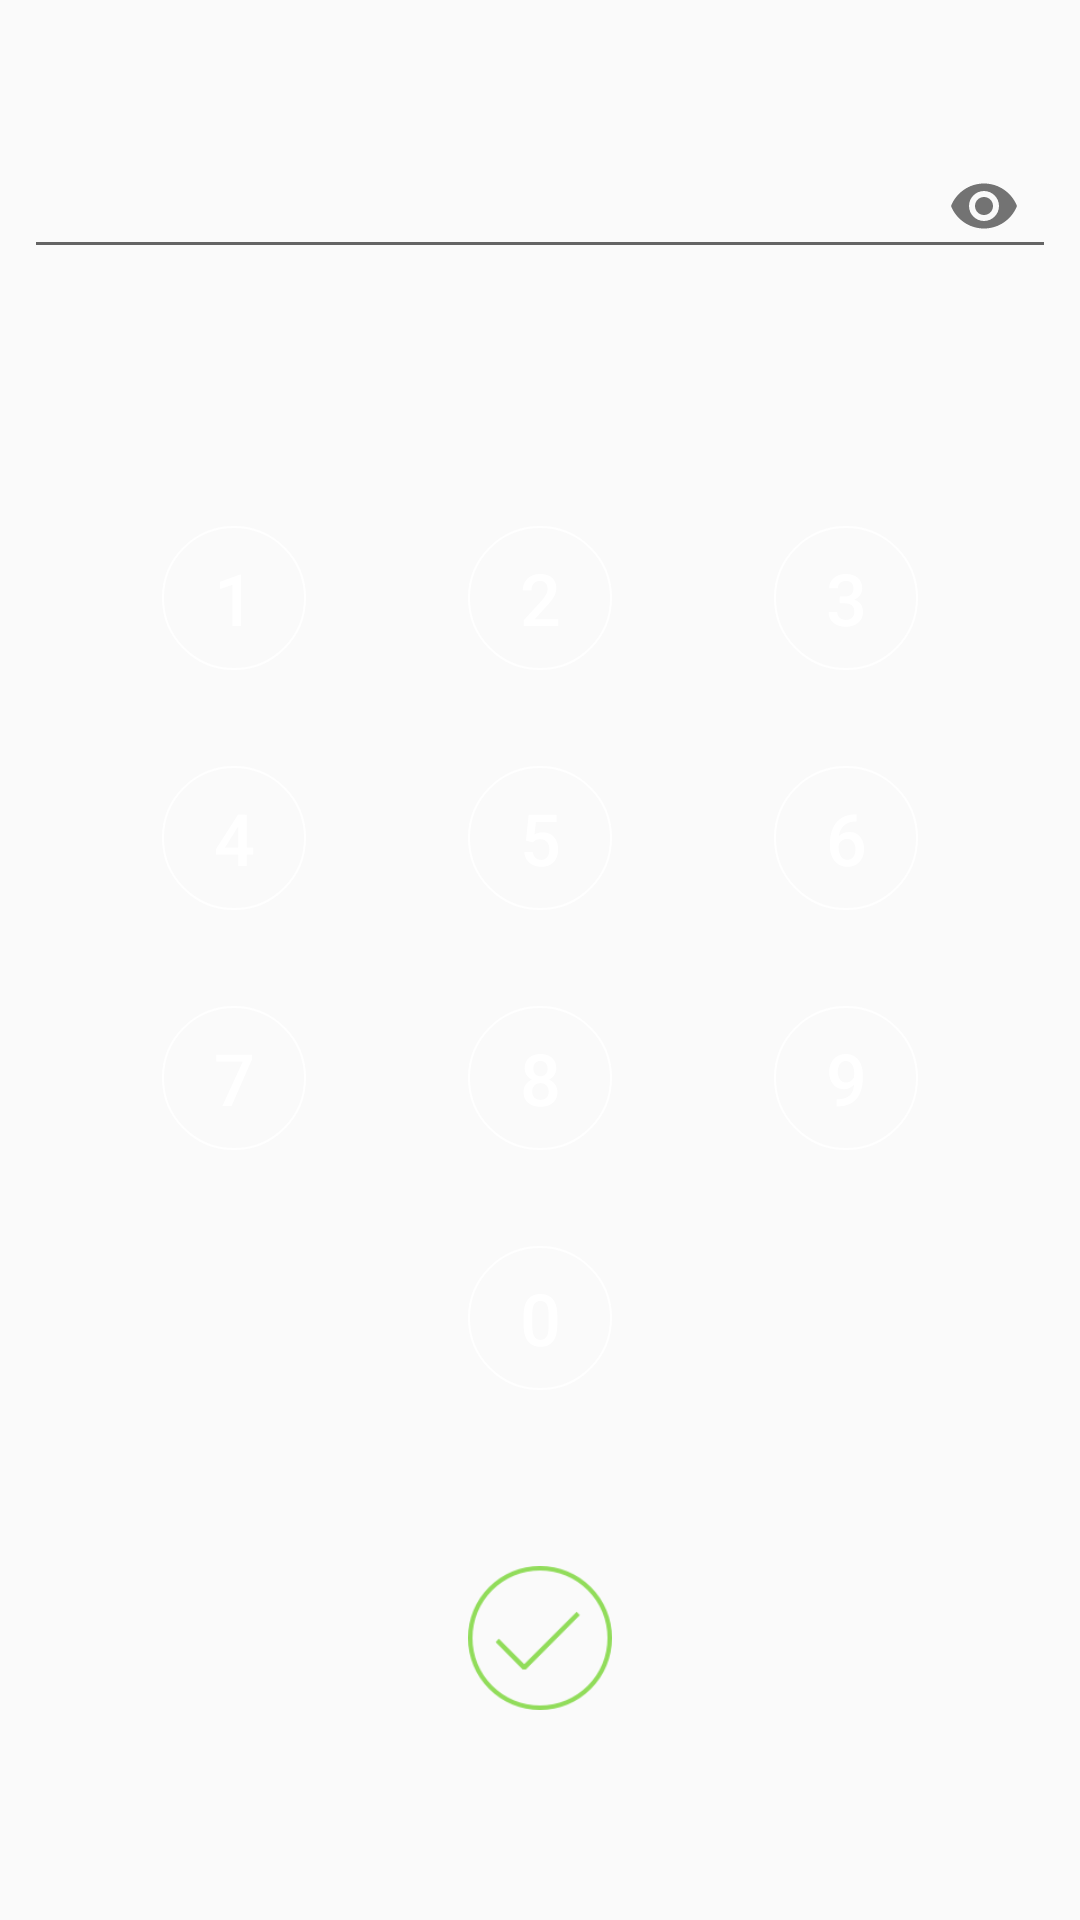

Screen size 1080w x 1920h. Icon name, then its center in pixels as (x=x, y=y):
checked: (x=540, y=1638)
